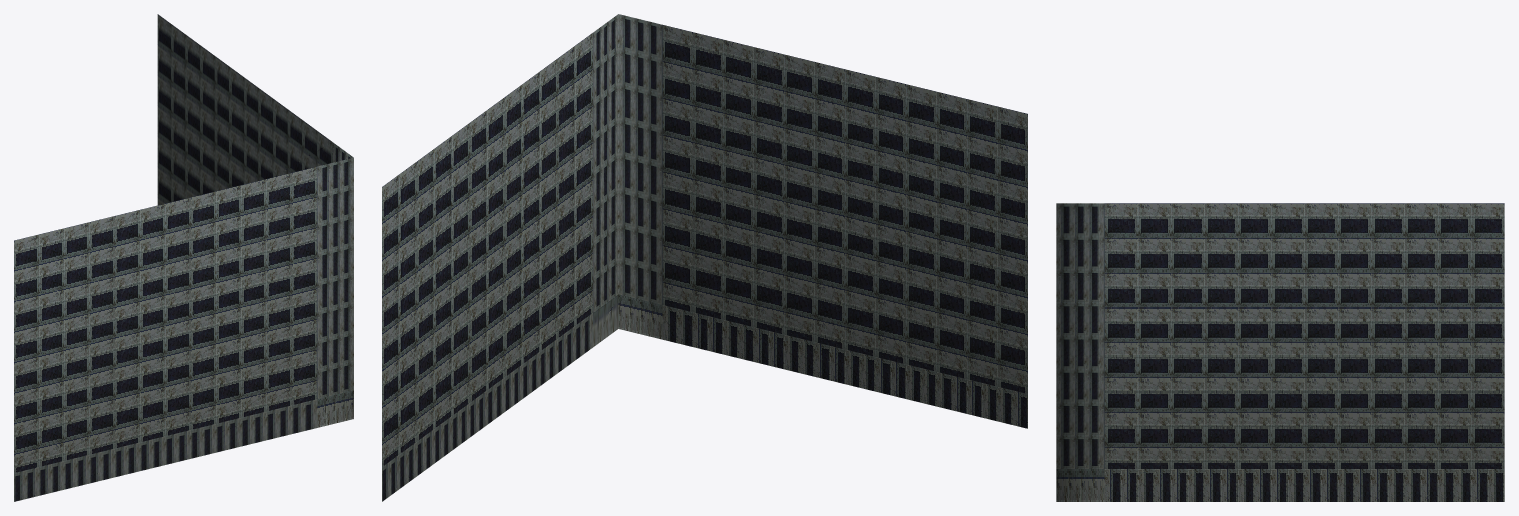
File: M10_Z01_12_TowerA.glb
3 views of the same model, side by side, from view 1: azimuth 30°, elevation 25°; view 2: azimuth 150°, elevation 25°; view 3: azimuth 270°, elevation 25° (orthographic). The views are drawn at different scales.
Parts seen in each view (by area): view 1: M10_Z01_12_TOWERA; view 2: M10_Z01_12_TOWERA; view 3: M10_Z01_12_TOWERA.
Boxes of the visible parts, bbox=[...] form: M10_Z01_12_TOWERA: bbox=[14, 14, 353, 501]; M10_Z01_12_TOWERA: bbox=[382, 14, 1027, 501]; M10_Z01_12_TOWERA: bbox=[1056, 203, 1504, 501].
Bounding box in the file's own units: 37 × 27.19 × 37.
1 material, 1 textured.
